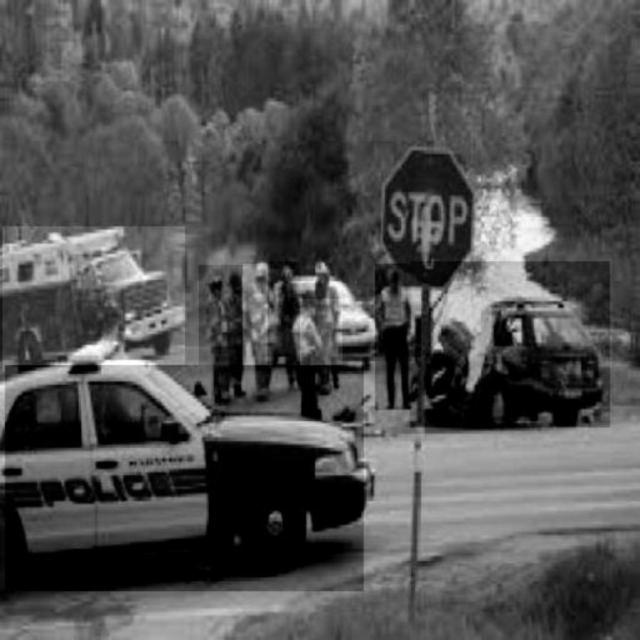accident: (411, 261, 611, 427)
person: (375, 264, 420, 410), (288, 299, 343, 410), (199, 265, 243, 397), (243, 264, 277, 402), (268, 262, 300, 393)
vehicle: (5, 365, 363, 591), (3, 227, 185, 371)
